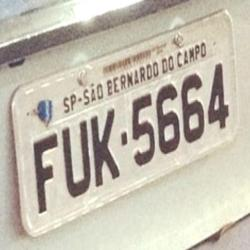LicensePlate: (8, 8, 247, 242)
